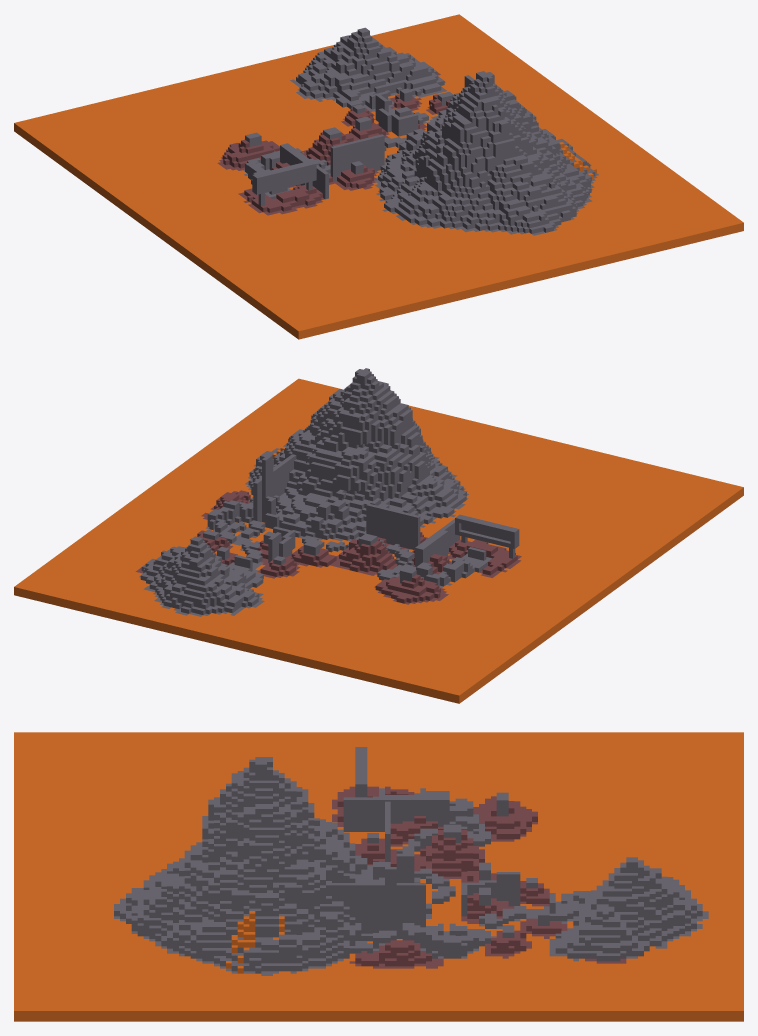
The model's file is grumble-volcano.glb.
3 views of the same model, one above another, from view 1: azimuth 30°, elevation 25°; view 2: azimuth 150°, elevation 25°; view 3: azimuth 270°, elevation 25° (orthographic). The views are drawn at different scales.
Parts seen in each view (by area): view 1: geometry_0; view 2: geometry_0; view 3: geometry_0.
Boxes of the visible parts, left/top/right/bottom form: geometry_0: left=14, top=14, right=743, bottom=339; geometry_0: left=14, top=368, right=743, bottom=703; geometry_0: left=14, top=732, right=743, bottom=1021.
Bounding box in the file's own units: 112 × 30 × 124.
